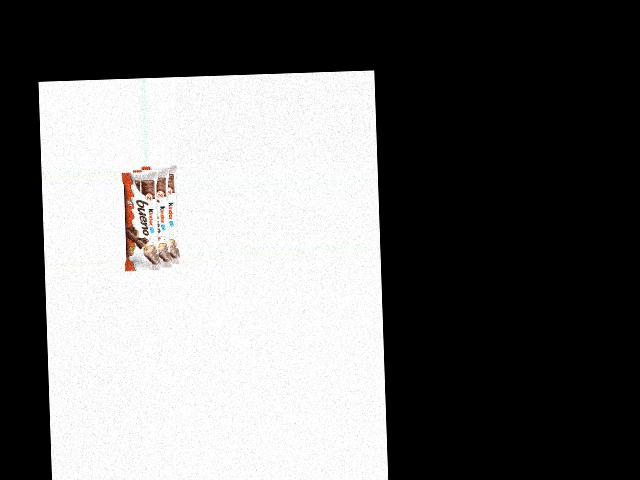chocolate: (120, 165, 180, 269)
